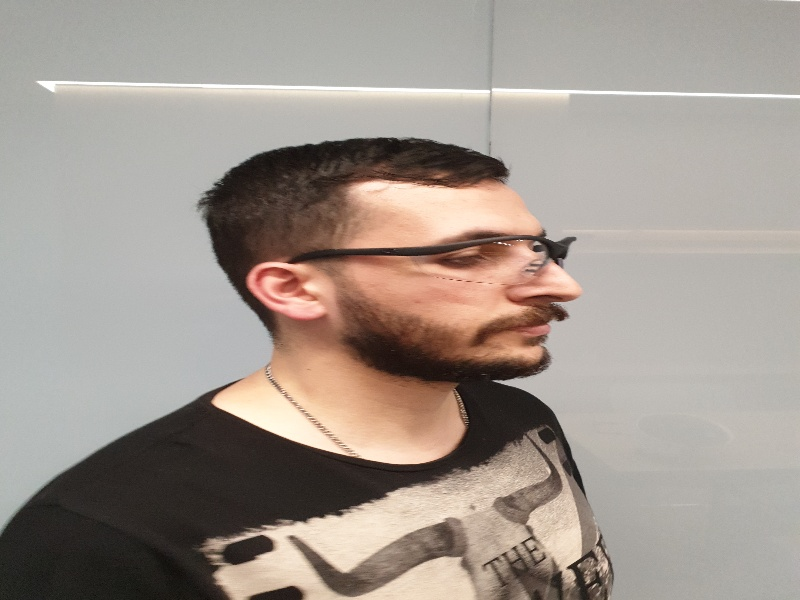Gozluk: (272, 237, 578, 280)
